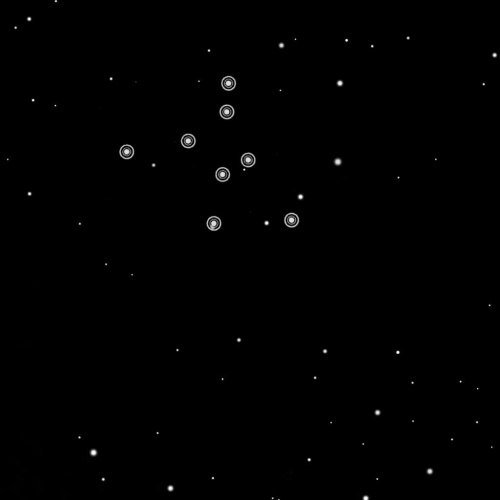hercules: (116, 72, 305, 235)
